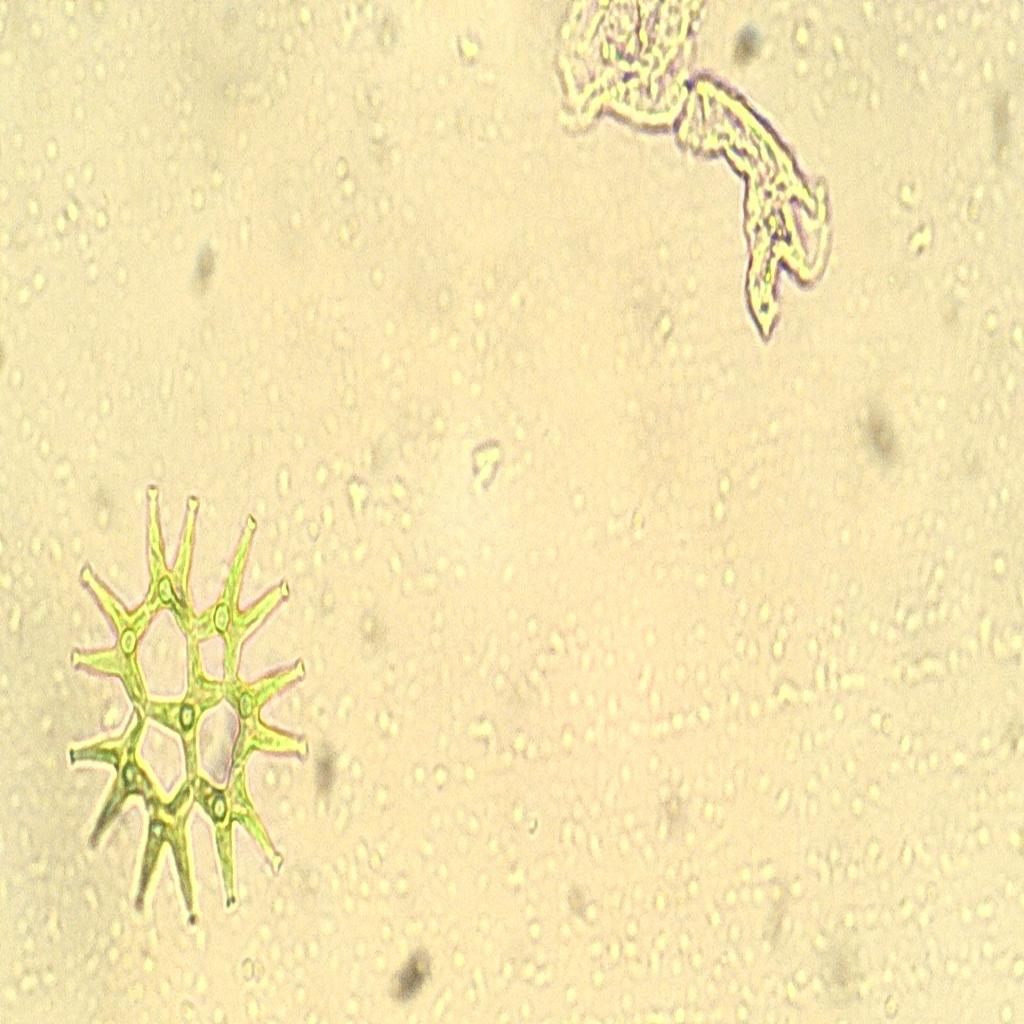Pediastrum_75T: (64, 467, 316, 956)
